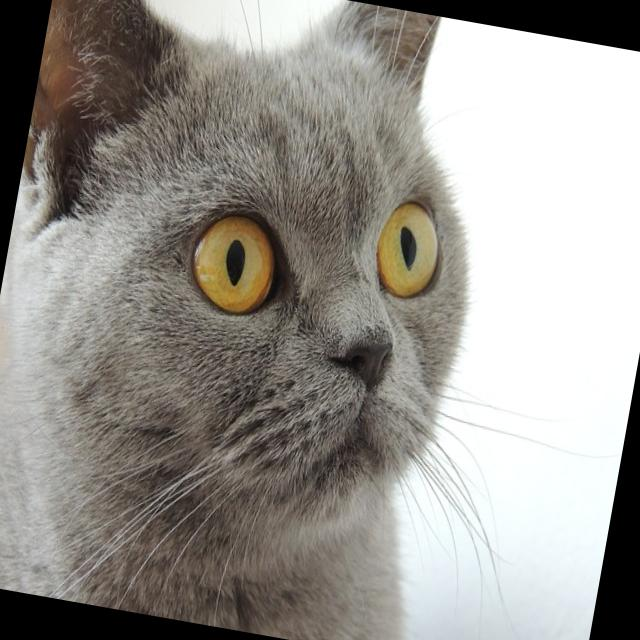animal: (0, 0, 513, 640)
